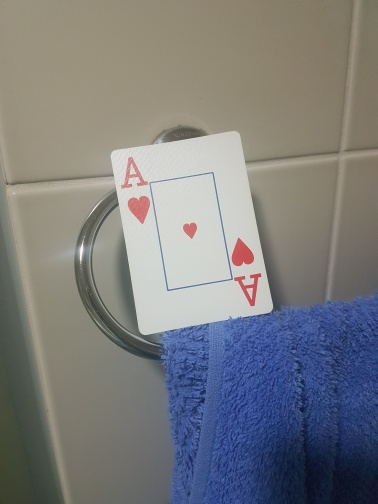ace: (111, 130, 273, 335)
